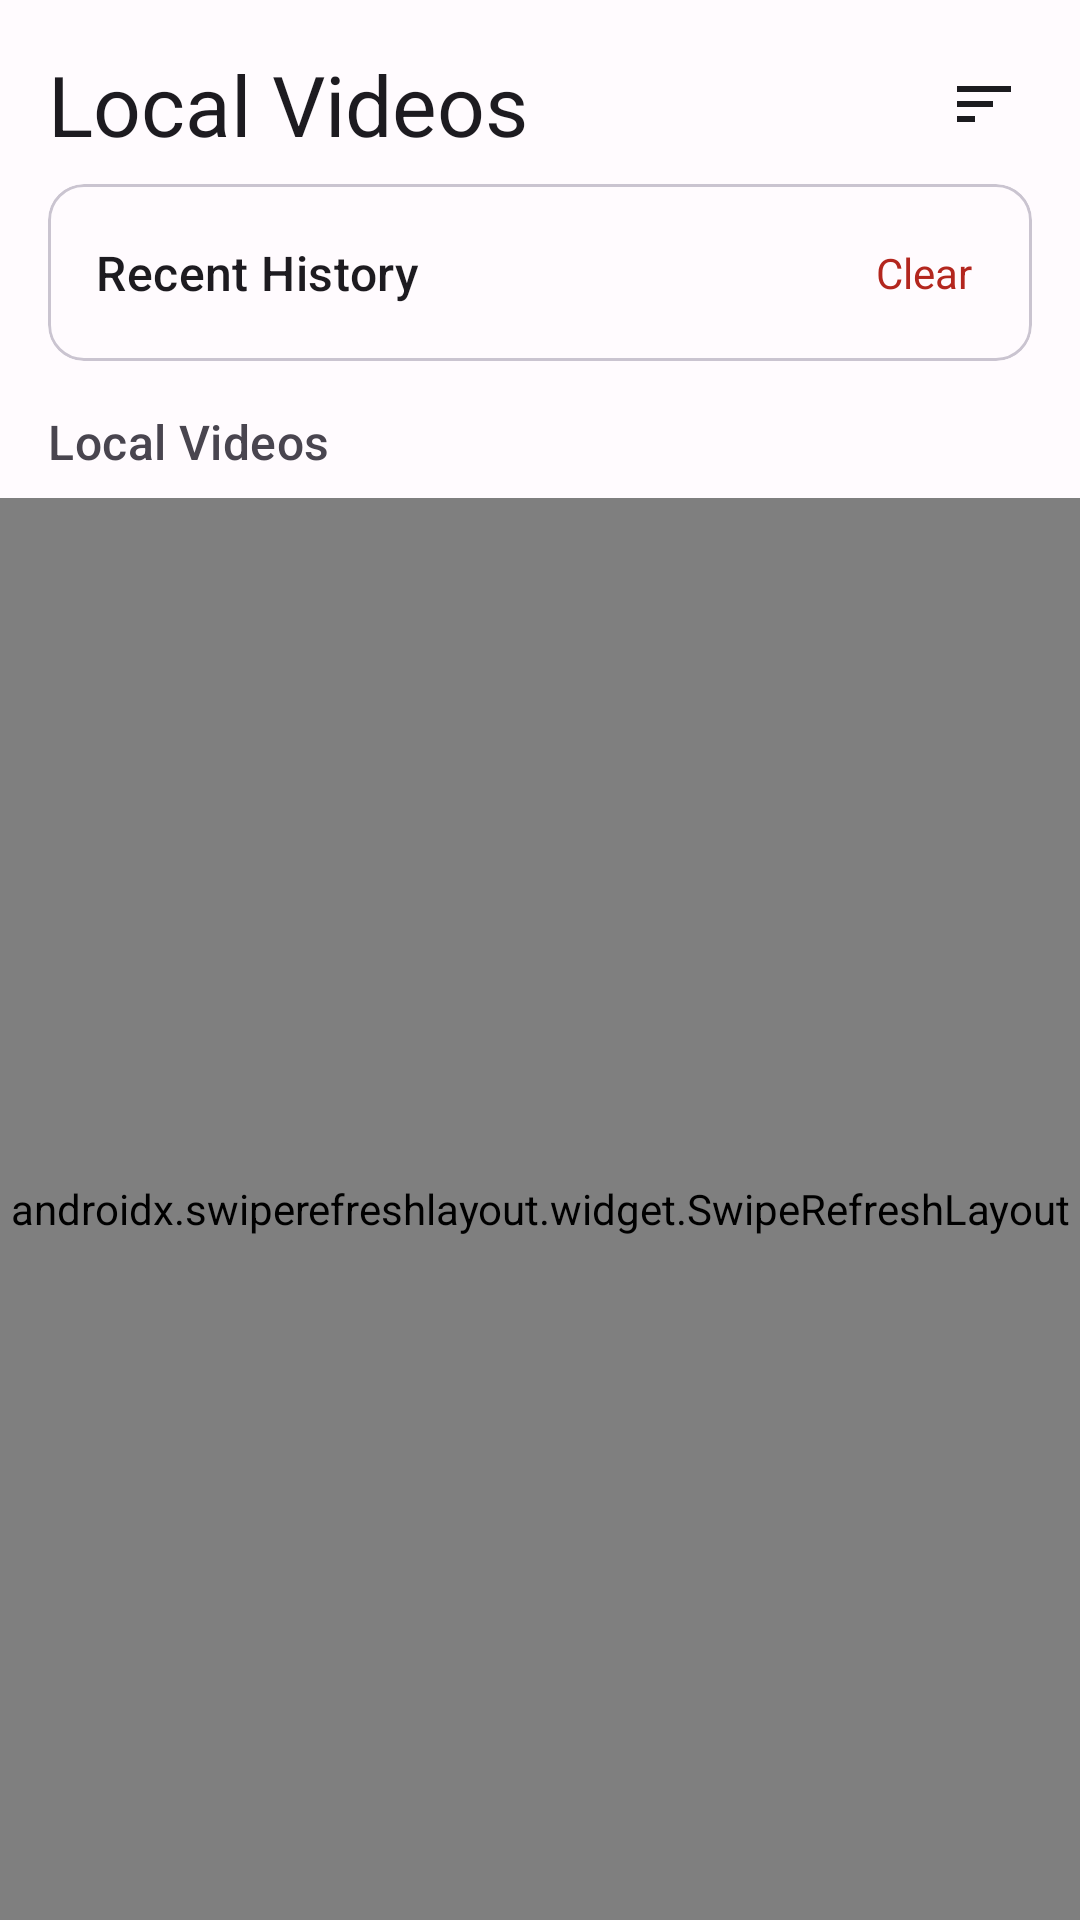

Point at icon controls on the screen. Image size 1080w x 1920h, points as (x=x, y=y).
sort: (x=984, y=104)
